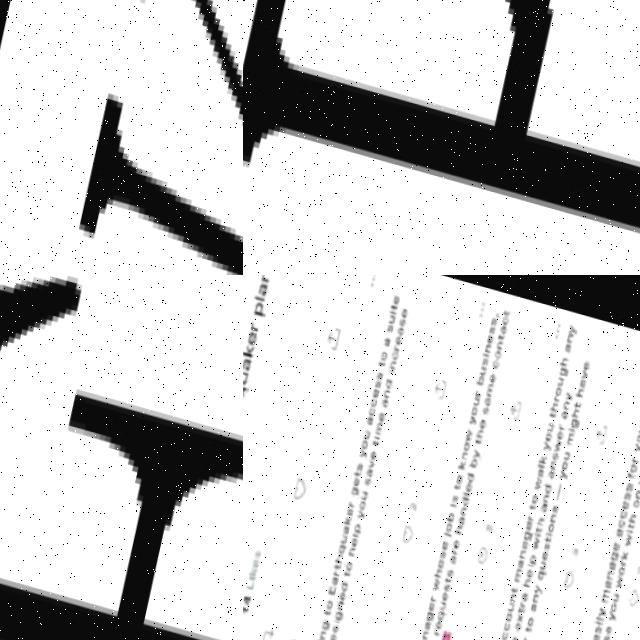1: (243, 604, 246, 611)
2: (409, 497, 417, 507), (484, 518, 492, 527), (634, 558, 640, 567)
3: (571, 540, 579, 550)
4: (243, 589, 250, 603)
5: (287, 633, 296, 640)
A: (257, 278, 268, 294), (243, 353, 251, 368), (456, 510, 465, 520), (539, 495, 547, 506), (382, 333, 390, 343), (423, 615, 431, 625), (448, 549, 456, 559), (483, 390, 491, 400), (519, 586, 527, 596), (546, 463, 554, 473), (528, 596, 536, 606), (578, 372, 586, 382), (602, 572, 610, 582), (607, 553, 615, 563), (614, 521, 622, 531), (341, 521, 349, 530), (329, 572, 337, 581), (365, 412, 373, 421), (365, 464, 373, 473), (381, 394, 389, 403), (396, 321, 404, 330), (499, 319, 507, 328), (515, 553, 523, 562), (519, 535, 527, 544), (535, 462, 543, 471), (563, 337, 571, 346), (560, 403, 568, 412), (591, 627, 599, 636), (497, 633, 505, 640), (418, 634, 426, 640)
B: (468, 451, 476, 462), (445, 507, 453, 517), (476, 370, 484, 379)
C: (369, 392, 377, 404), (500, 624, 508, 635), (617, 501, 625, 512), (367, 401, 375, 411), (391, 346, 399, 356), (491, 353, 499, 363), (616, 511, 624, 521), (502, 615, 510, 624), (501, 310, 509, 319)
D: (542, 478, 551, 487), (339, 577, 347, 587), (383, 374, 391, 384), (460, 491, 468, 501), (465, 467, 473, 477)
E: (246, 327, 258, 343), (426, 596, 435, 607), (392, 289, 400, 301), (524, 562, 533, 571), (371, 384, 379, 394), (349, 533, 357, 543), (369, 446, 377, 456), (394, 330, 402, 340), (433, 615, 441, 625), (478, 414, 486, 424), (509, 630, 517, 640), (540, 544, 548, 554), (582, 354, 590, 364), (604, 618, 612, 628), (327, 581, 335, 591), (251, 555, 259, 564), (345, 503, 353, 512), (352, 472, 360, 481), (328, 629, 336, 638), (337, 587, 345, 596), (377, 408, 385, 417), (401, 303, 409, 312), (440, 536, 448, 545), (486, 329, 494, 338), (440, 587, 448, 596), (452, 533, 460, 542), (464, 477, 472, 486), (488, 368, 496, 377), (524, 515, 532, 524), (512, 616, 520, 625), (555, 423, 563, 432), (610, 534, 618, 543), (620, 493, 628, 502), (587, 635, 595, 640), (519, 636, 527, 640)
F: (0, 275, 243, 640), (626, 463, 633, 471)
G: (425, 604, 433, 616), (320, 616, 328, 627), (523, 524, 531, 534), (570, 411, 578, 421), (351, 483, 359, 492), (334, 608, 342, 617), (559, 361, 567, 370), (609, 545, 617, 554)
H: (347, 542, 355, 552), (550, 395, 558, 405), (333, 550, 341, 559), (433, 563, 441, 572), (454, 519, 462, 528), (522, 571, 530, 580), (535, 510, 543, 519), (571, 401, 579, 410), (575, 381, 583, 390), (627, 506, 635, 515), (475, 423, 483, 432), (560, 350, 568, 359)
I: (247, 573, 254, 579), (448, 497, 455, 503), (482, 346, 489, 352), (533, 525, 540, 531), (567, 420, 574, 426), (624, 522, 632, 527), (315, 635, 322, 640), (388, 304, 395, 309), (332, 616, 339, 621), (545, 525, 552, 530), (593, 613, 600, 618), (373, 432, 379, 435), (387, 365, 393, 368)
J: (442, 526, 451, 534)
K: (18, 0, 243, 275), (243, 339, 253, 354), (342, 512, 351, 521), (248, 563, 256, 573), (457, 455, 465, 464), (538, 449, 546, 458), (619, 544, 626, 551)
L: (253, 293, 265, 299), (245, 577, 253, 586), (462, 485, 469, 490), (537, 457, 544, 462), (351, 530, 357, 533), (526, 558, 532, 561), (594, 610, 600, 613), (600, 636, 606, 639)
M: (374, 416, 383, 432), (485, 377, 494, 392), (512, 562, 521, 577), (565, 425, 574, 440), (599, 581, 608, 596)
N: (548, 506, 556, 517), (335, 597, 344, 606), (382, 385, 390, 395), (460, 445, 468, 455), (458, 501, 466, 511), (508, 587, 516, 597), (541, 487, 549, 497), (530, 587, 538, 597), (604, 563, 612, 573), (317, 626, 325, 635), (388, 356, 396, 365), (420, 625, 428, 634), (484, 337, 492, 346), (495, 334, 503, 343), (518, 543, 526, 552), (565, 327, 573, 336), (548, 454, 556, 463), (562, 395, 570, 404), (633, 482, 640, 491), (261, 275, 270, 280)
O: (493, 343, 502, 355), (543, 425, 552, 436), (324, 595, 332, 607), (360, 434, 368, 445), (436, 553, 445, 562), (455, 468, 463, 478), (554, 380, 562, 390), (628, 455, 636, 465), (608, 595, 616, 605), (631, 491, 639, 501), (379, 347, 387, 356), (344, 558, 352, 567), (358, 495, 366, 504), (444, 517, 452, 526), (462, 436, 470, 445), (470, 401, 478, 410), (504, 607, 512, 616), (530, 488, 538, 497), (525, 610, 533, 619), (546, 516, 554, 525), (560, 454, 568, 463), (616, 560, 624, 569), (634, 425, 640, 434), (638, 459, 640, 468)
P: (243, 0, 640, 228), (253, 297, 266, 314), (353, 519, 361, 528), (529, 549, 537, 558)
Q: (437, 605, 445, 616), (337, 540, 345, 549), (536, 564, 544, 573), (243, 381, 247, 397)
R: (249, 319, 259, 329), (552, 388, 560, 396), (392, 339, 400, 346), (474, 383, 482, 390), (432, 623, 439, 631), (518, 594, 525, 602), (557, 416, 564, 424), (618, 551, 625, 559), (332, 565, 339, 572), (347, 496, 354, 503), (429, 590, 436, 597), (450, 543, 457, 550), (526, 508, 533, 515), (521, 630, 528, 637), (630, 448, 637, 455), (638, 409, 640, 416)
S: (550, 497, 558, 508), (253, 546, 261, 556), (385, 319, 393, 329), (363, 472, 371, 482), (442, 578, 450, 588), (542, 535, 550, 545), (593, 617, 601, 627), (354, 457, 362, 466), (373, 375, 381, 384), (375, 366, 383, 375), (330, 620, 338, 629), (398, 313, 406, 322), (438, 545, 446, 554), (450, 489, 458, 498), (481, 351, 489, 360), (488, 319, 496, 328), (490, 311, 498, 320), (445, 563, 453, 572), (481, 400, 489, 409), (550, 445, 558, 454), (624, 477, 632, 486), (601, 627, 609, 636), (623, 485, 630, 492)
T: (322, 605, 329, 613), (473, 432, 481, 439), (502, 303, 509, 311), (528, 497, 535, 505), (627, 514, 634, 522), (333, 559, 340, 566), (353, 466, 360, 473), (378, 355, 385, 362), (390, 299, 397, 306), (342, 566, 349, 573), (372, 435, 379, 442), (453, 478, 460, 485), (443, 571, 450, 578), (497, 327, 504, 334), (510, 580, 517, 587), (549, 405, 556, 412), (516, 602, 523, 609), (534, 520, 541, 527), (523, 620, 530, 627), (543, 530, 550, 537), (574, 395, 581, 402), (428, 635, 435, 640)
U: (361, 426, 370, 435), (437, 596, 446, 605), (243, 366, 248, 382), (339, 530, 347, 540), (360, 486, 368, 496), (546, 416, 554, 426), (556, 369, 564, 379), (388, 310, 396, 319), (472, 392, 480, 401), (479, 360, 487, 369), (506, 597, 514, 606), (537, 554, 545, 563), (562, 444, 570, 453), (610, 585, 618, 594), (636, 416, 640, 425)
V: (580, 363, 588, 373), (366, 454, 374, 463)
W: (552, 431, 561, 448), (464, 422, 473, 438), (533, 469, 542, 485), (431, 571, 440, 586), (531, 529, 540, 544), (613, 567, 622, 582), (623, 525, 632, 540)
X: (515, 607, 523, 616)
Y: (356, 505, 365, 515), (597, 601, 606, 610), (607, 605, 616, 614), (358, 445, 366, 455), (468, 410, 476, 420), (472, 443, 480, 453), (543, 435, 551, 445), (569, 317, 577, 327), (558, 463, 566, 473), (565, 385, 573, 394), (533, 578, 541, 587), (632, 436, 640, 445), (636, 468, 640, 478)
